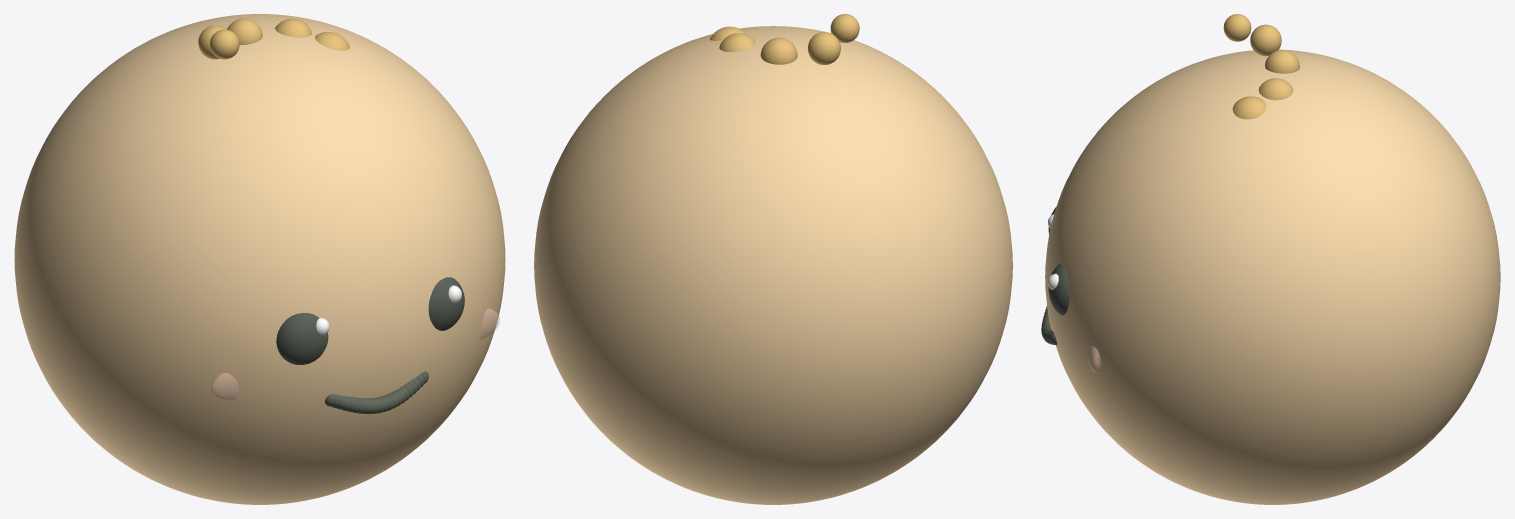
Rendered from gilgul.glb.
3 renders of one model, left to right at view 1: azimuth 30°, elevation 25°; view 2: azimuth 150°, elevation 25°; view 3: azimuth 270°, elevation 25°, orthographic. The views are drawn at different scales.
Size of the model in its own units: 1.8 by 1.93 by 1.81.
